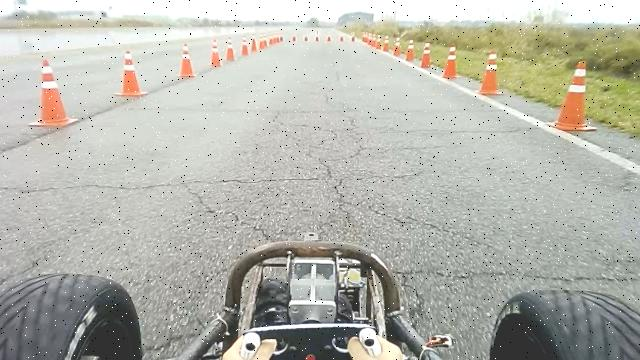red cone: (547, 59, 598, 132), (28, 58, 80, 128), (114, 49, 148, 97), (476, 48, 504, 95), (177, 42, 196, 78), (442, 44, 459, 78), (210, 38, 222, 67), (420, 42, 432, 68), (404, 37, 415, 63), (225, 36, 235, 61), (240, 35, 250, 56), (393, 37, 402, 57)
